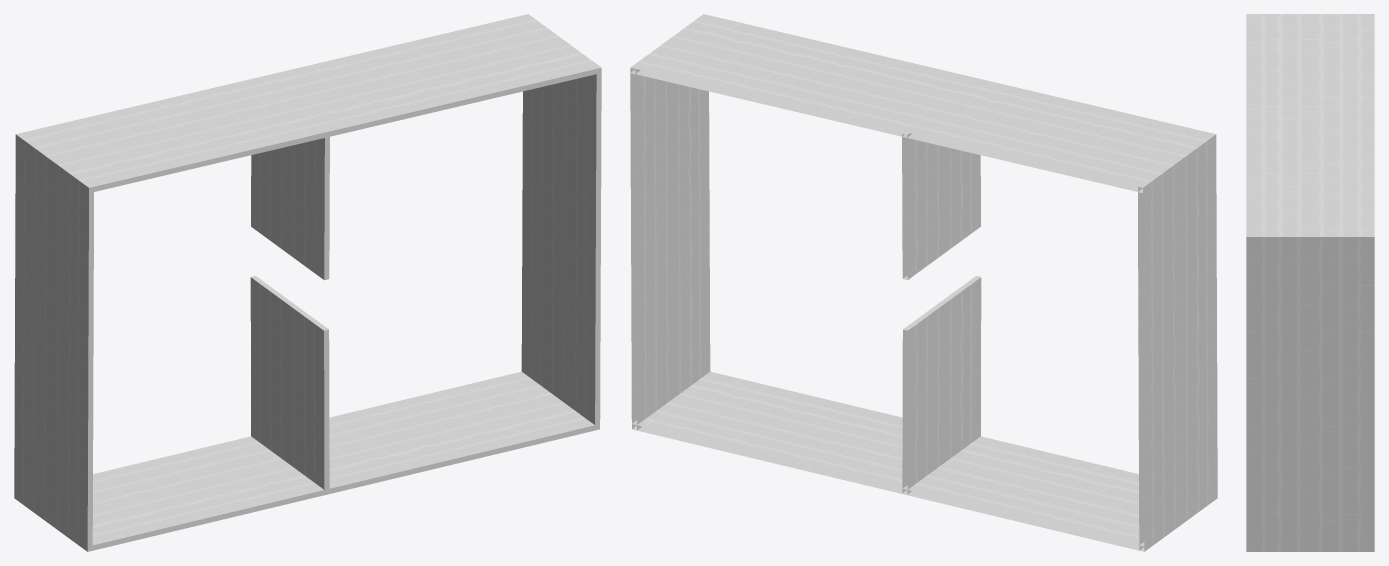
The model's file is wall_1.obj.
3 renders of one model, left to right at view 1: azimuth 30°, elevation 25°; view 2: azimuth 150°, elevation 25°; view 3: azimuth 270°, elevation 25°, orthographic. The views are drawn at different scales.
Parts seen in each view (by area): view 1: walls; view 2: walls; view 3: walls.
Part boxes in pixels (x1,y1,x2,y2): walls: (14, 14, 601, 551); walls: (630, 14, 1217, 551); walls: (1246, 14, 1374, 551).
Size of the model in its own units: 10.12 by 6.89 by 2.5.
